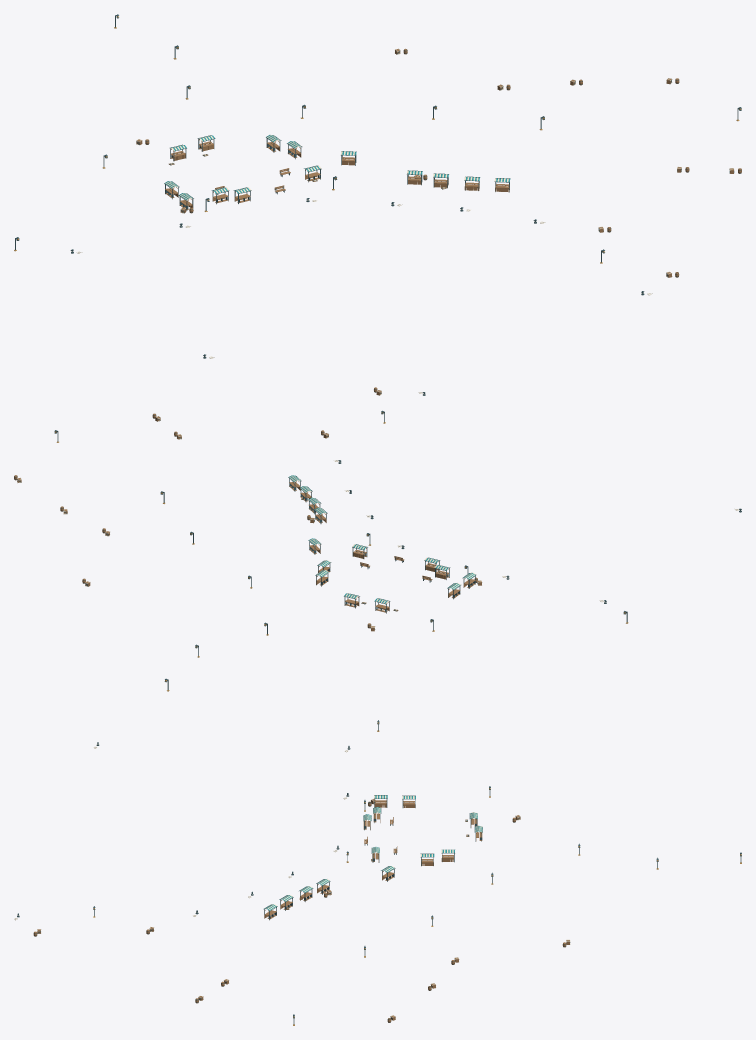
The model's file is 11_Props.glb.
3 renders of one model, top to bottom at view 1: azimuth 30°, elevation 25°; view 2: azimuth 150°, elevation 25°; view 3: azimuth 270°, elevation 25°, orthographic. The views are drawn at different scales.
Size of the model in its own units: 137 by 2.52 by 143.
